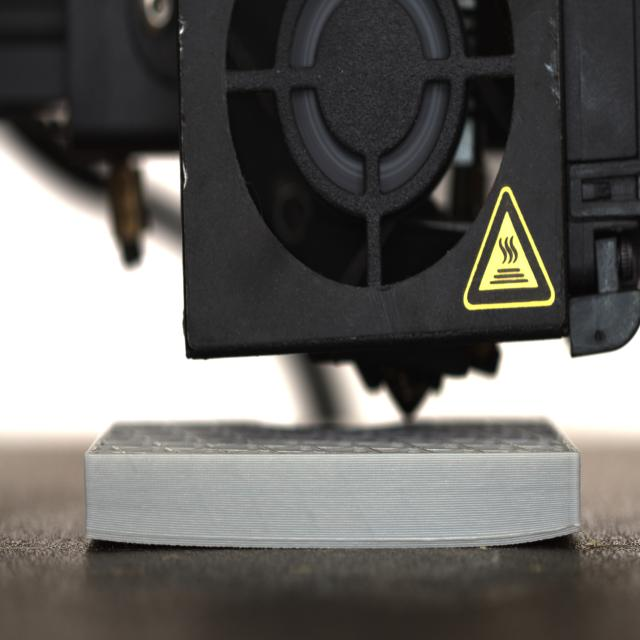Warping: (524, 519, 583, 552), (80, 527, 152, 552)
